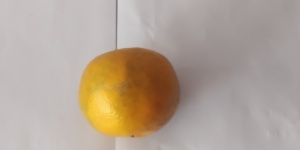BAD: (78, 46, 181, 138)
